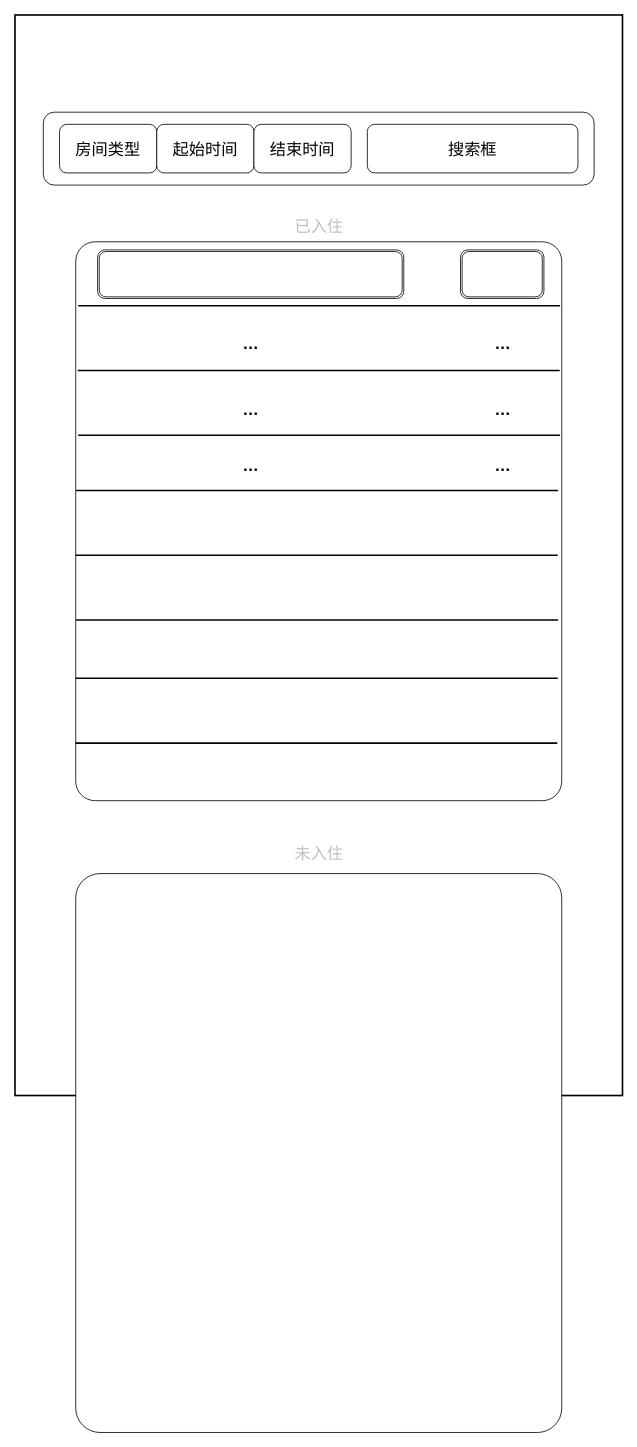
This 637x1447 diagram has some shape labels left out. The shapes that lost their labels are listed below. From the top down, each one's centre as x and y in pixels, then its label:
At point (250, 273): "房间简略信息".
At point (502, 273): "开关".
